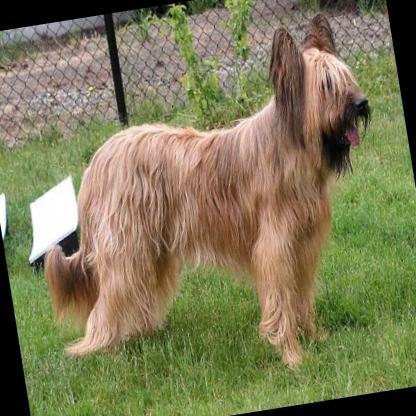briard: (8, 5, 410, 408)
